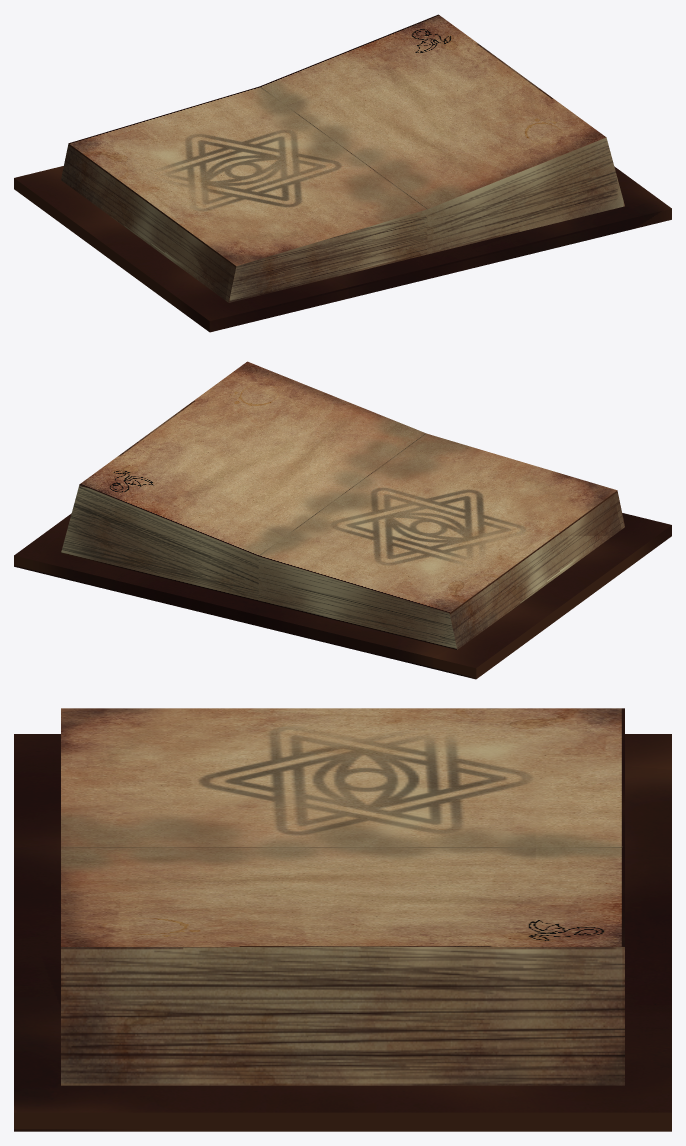
File: book.glb
The picture shows the model from 3 angles, top to bottom: view 1: azimuth 30°, elevation 25°; view 2: azimuth 150°, elevation 25°; view 3: azimuth 270°, elevation 25°; orthographic projection. The views are drawn at different scales.
Parts seen in each view (by area): view 1: Cube; view 2: Cube; view 3: Cube.
Boxes of the visible parts, x1,y1,x2,y2 form: Cube: (14, 14, 671, 332); Cube: (14, 361, 671, 679); Cube: (14, 708, 671, 1131).
Bounding box in the file's own units: 0.6666 × 0.1167 × 0.4892.
Materials: 1 (1 with a texture image).
